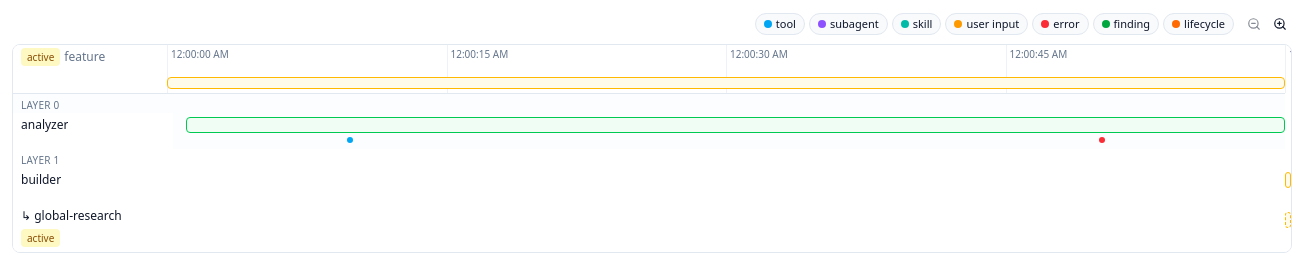
Test case: TraceView › clicking a child row pushes onto the breadcrumb and loads the child trace
Click the button named "open trace of global-research" at (1288, 220), box [1285,212,1291,228]
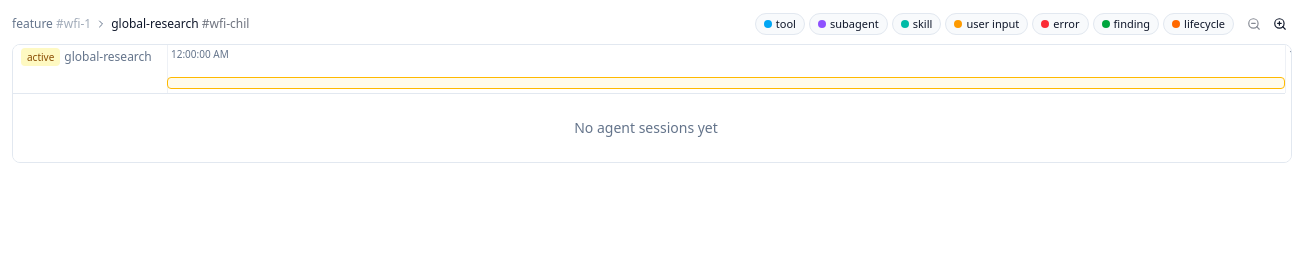
Now the element with test id "trace-breadcrumb" is shown, box [12,16,249,32]
